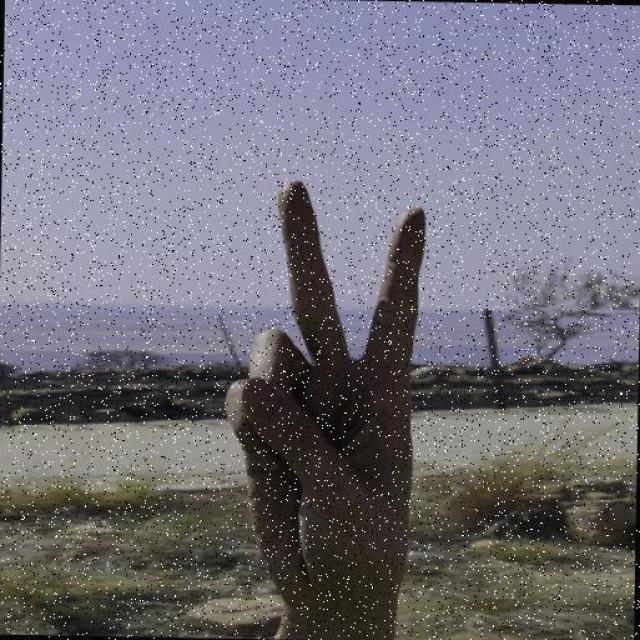V: (177, 126, 502, 640)
